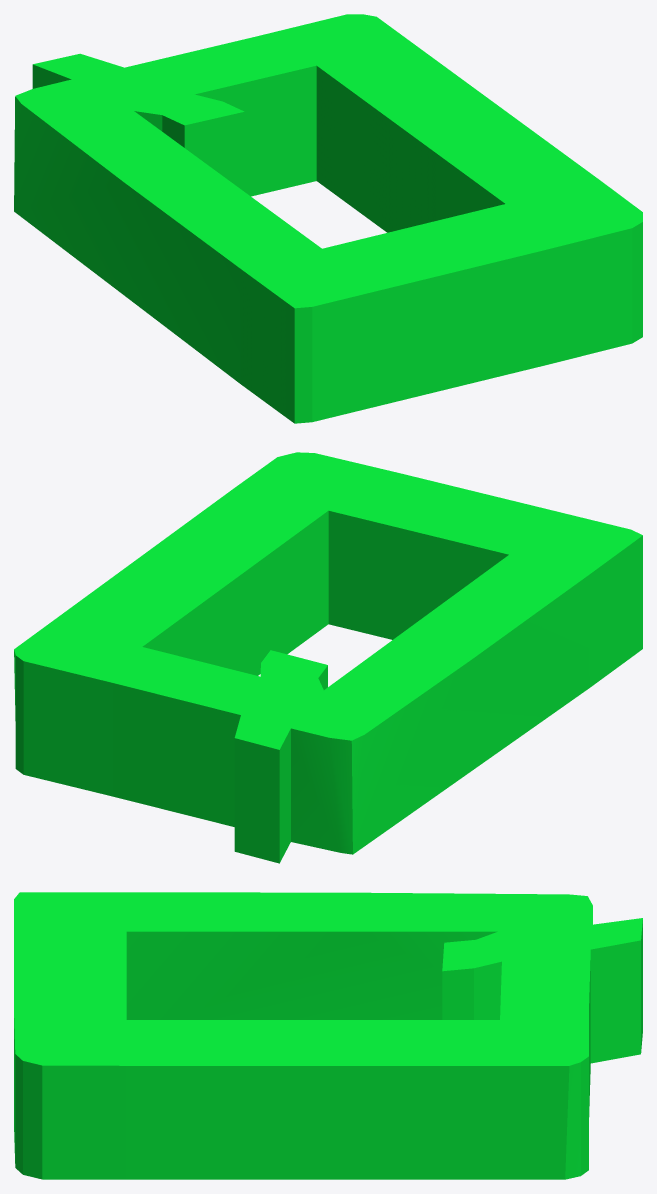
File: LetterQ.obj
3 views of the same model, one above another, from view 1: azimuth 30°, elevation 25°; view 2: azimuth 150°, elevation 25°; view 3: azimuth 270°, elevation 25° (orthographic).
Visible parts, largest first — view 1: LetterQ; view 2: LetterQ; view 3: LetterQ.
Boxes of the visible parts, x1=… form: LetterQ: x1=14, y1=14, x2=642, y2=423; LetterQ: x1=14, y1=452, x2=642, y2=863; LetterQ: x1=14, y1=892, x2=642, y2=1179.
Size of the model in its own units: 3.27 by 1 by 5.
